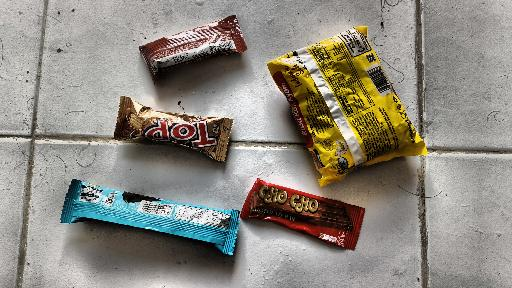chocho: (238, 174, 367, 255)
dilan: (53, 173, 249, 265)
indomie: (260, 45, 430, 184)
top: (110, 92, 236, 165), (132, 18, 247, 76)
